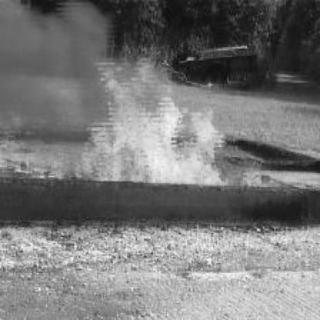Fire: (71, 54, 271, 187)
